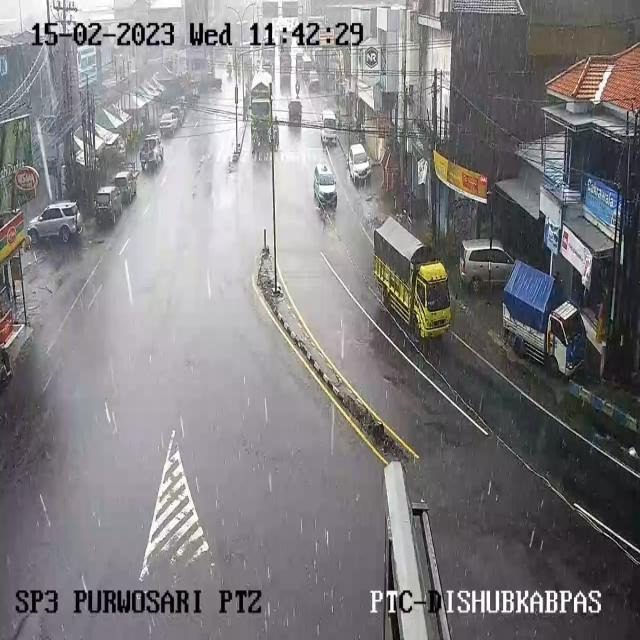Car: (457, 239, 514, 294), (27, 201, 82, 245), (309, 160, 342, 214), (93, 186, 124, 225), (347, 143, 371, 183), (139, 135, 163, 170), (113, 170, 138, 203), (320, 110, 338, 143), (300, 52, 315, 82), (159, 112, 179, 134), (169, 105, 185, 127), (290, 100, 302, 124), (176, 96, 189, 116), (308, 77, 321, 93), (262, 58, 272, 72)
Motorbike: (243, 98, 250, 121), (245, 80, 251, 100), (294, 78, 301, 93), (235, 86, 238, 105)
Truck: (503, 264, 584, 378), (372, 223, 448, 338), (250, 71, 276, 154)
